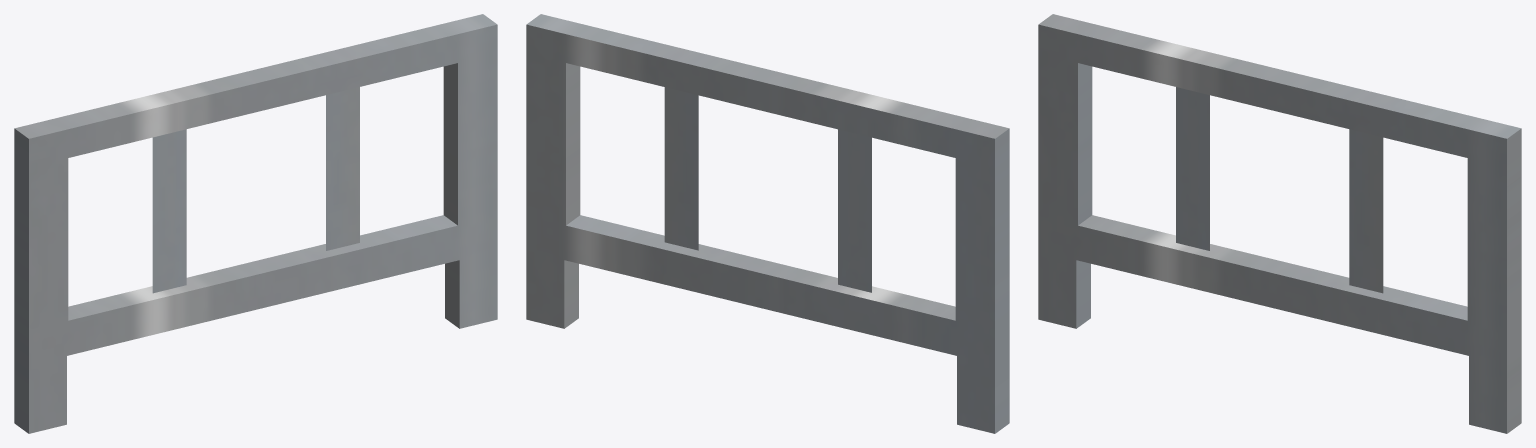
The model's file is SM_StreetBarriere.fbx.
3 renders of one model, left to right at view 1: azimuth 30°, elevation 25°; view 2: azimuth 150°, elevation 25°; view 3: azimuth 330°, elevation 25°, orthographic.
Visible parts, largest first — view 1: SM_StreetBarrier; view 2: SM_StreetBarrier; view 3: SM_StreetBarrier.
Part boxes in pixels (x1,y1,x2,y2): SM_StreetBarrier: (14, 14, 497, 433); SM_StreetBarrier: (526, 14, 1009, 433); SM_StreetBarrier: (1038, 14, 1521, 433).
Bounding box in the file's own units: 150 × 7.98 × 90.26.
1 material, 1 textured.
